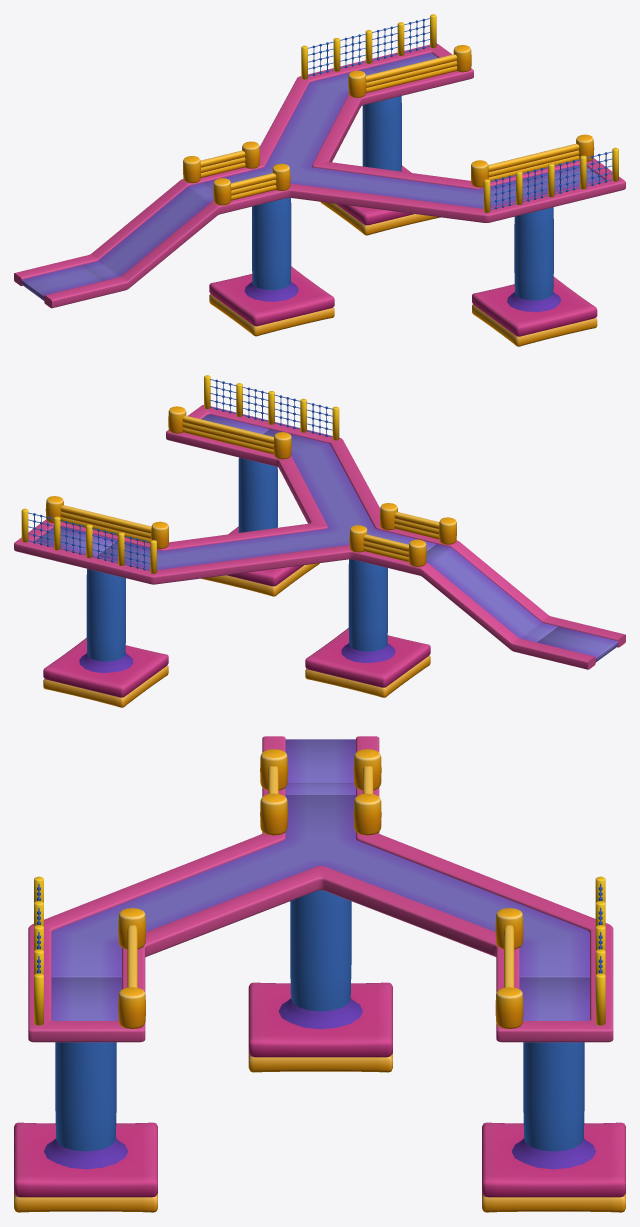
3 views of the same model, one above another, from view 1: azimuth 30°, elevation 25°; view 2: azimuth 150°, elevation 25°; view 3: azimuth 270°, elevation 25° (orthographic). The views are drawn at different scales.
Parts seen in each view (by area): view 1: Part2; view 2: Part2; view 3: Part2.
Part boxes in pixels (bbox=[...]): Part2: bbox=[14, 14, 625, 346]; Part2: bbox=[14, 375, 625, 707]; Part2: bbox=[14, 736, 625, 1212].
Bounding box in the file's own units: 49.3 × 15.84 × 33.99.
1 material, 1 textured.
